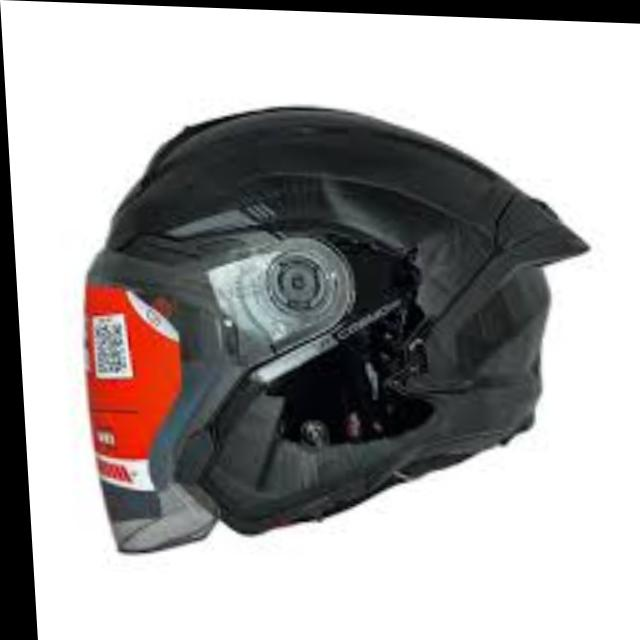motorcycle-helmets: (63, 86, 629, 585)
